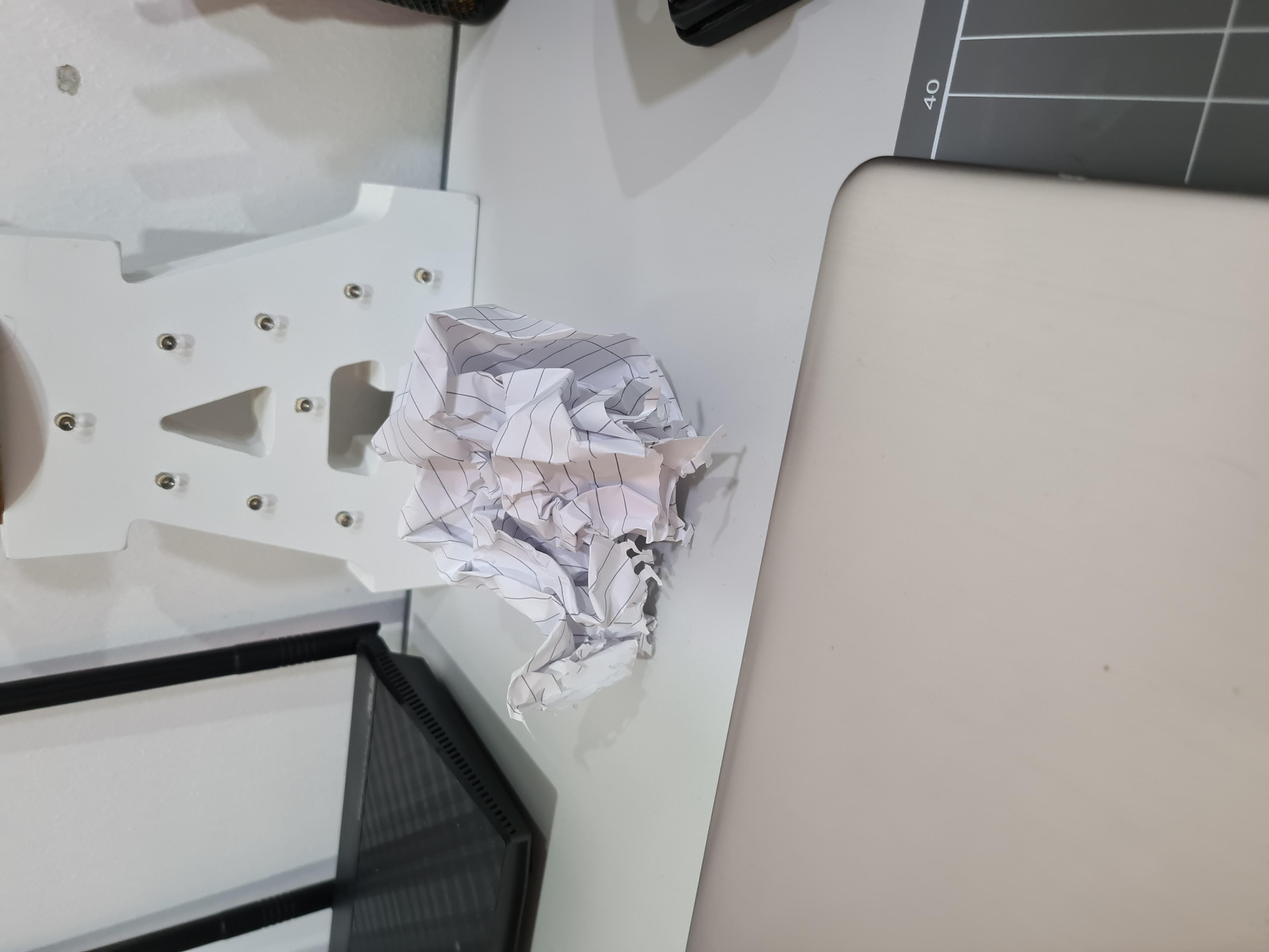paper: (316, 289, 870, 515)
